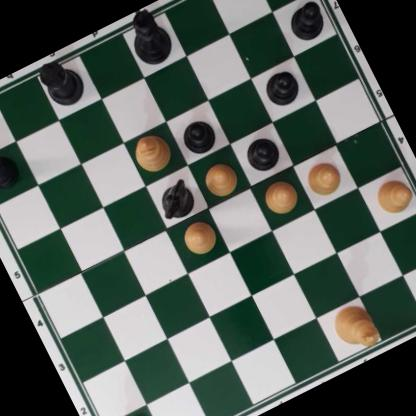black-king: (118, 4, 180, 73)
black-knight: (152, 174, 200, 224)
black-pawn: (282, 0, 332, 47), (174, 112, 221, 160), (239, 130, 285, 177), (259, 66, 304, 111), (0, 148, 22, 195)
black-rook: (33, 50, 91, 112)
white-bishop: (127, 126, 176, 178)
white-king: (326, 297, 383, 357)
white-pawn: (301, 155, 347, 201), (196, 157, 243, 202), (371, 173, 416, 218), (258, 175, 303, 220), (177, 216, 221, 260)
white-rook: (101, 412, 163, 416)
